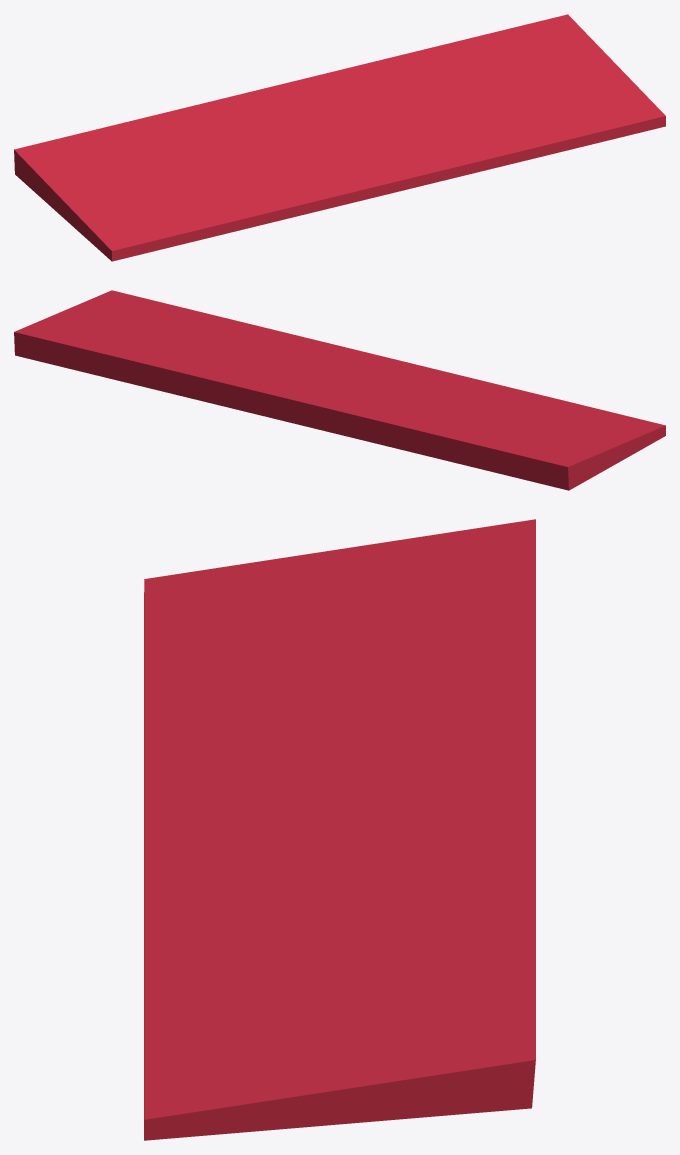
Rendered from spoiler.glb.
The picture shows the model from 3 angles, top to bottom: view 1: azimuth 30°, elevation 25°; view 2: azimuth 150°, elevation 25°; view 3: azimuth 270°, elevation 25°; orthographic projection. The views are drawn at different scales.
Parts seen in each view (by area): view 1: spoiler; view 2: spoiler; view 3: spoiler.
Part boxes in pixels (x1,y1,x2,y2): spoiler: (14,14,665,261); spoiler: (14,290,665,490); spoiler: (144,519,535,1140).
Bounding box in the file's own units: 1.77 × 0.1231 × 0.5408.
